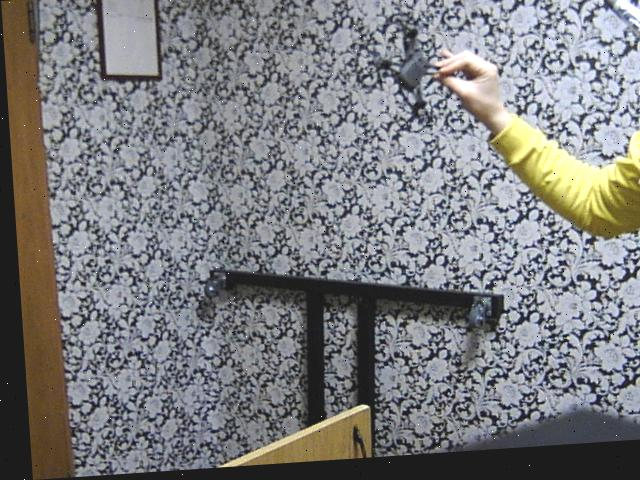drone: (335, 6, 475, 137)
